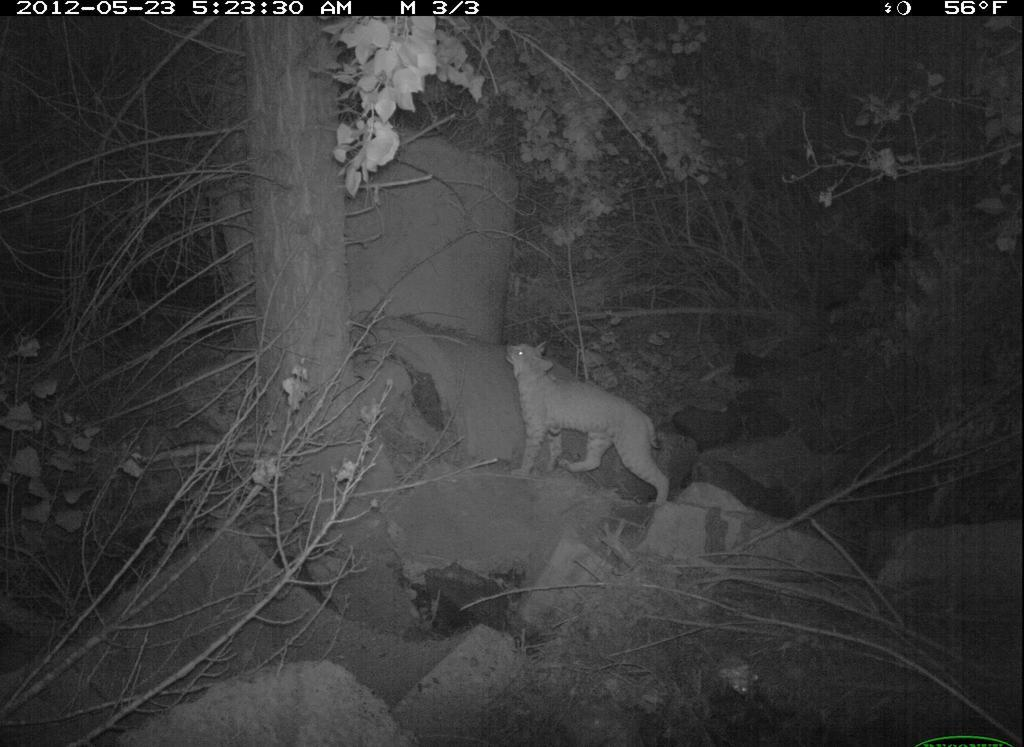bobcat: (501, 336, 677, 511)
